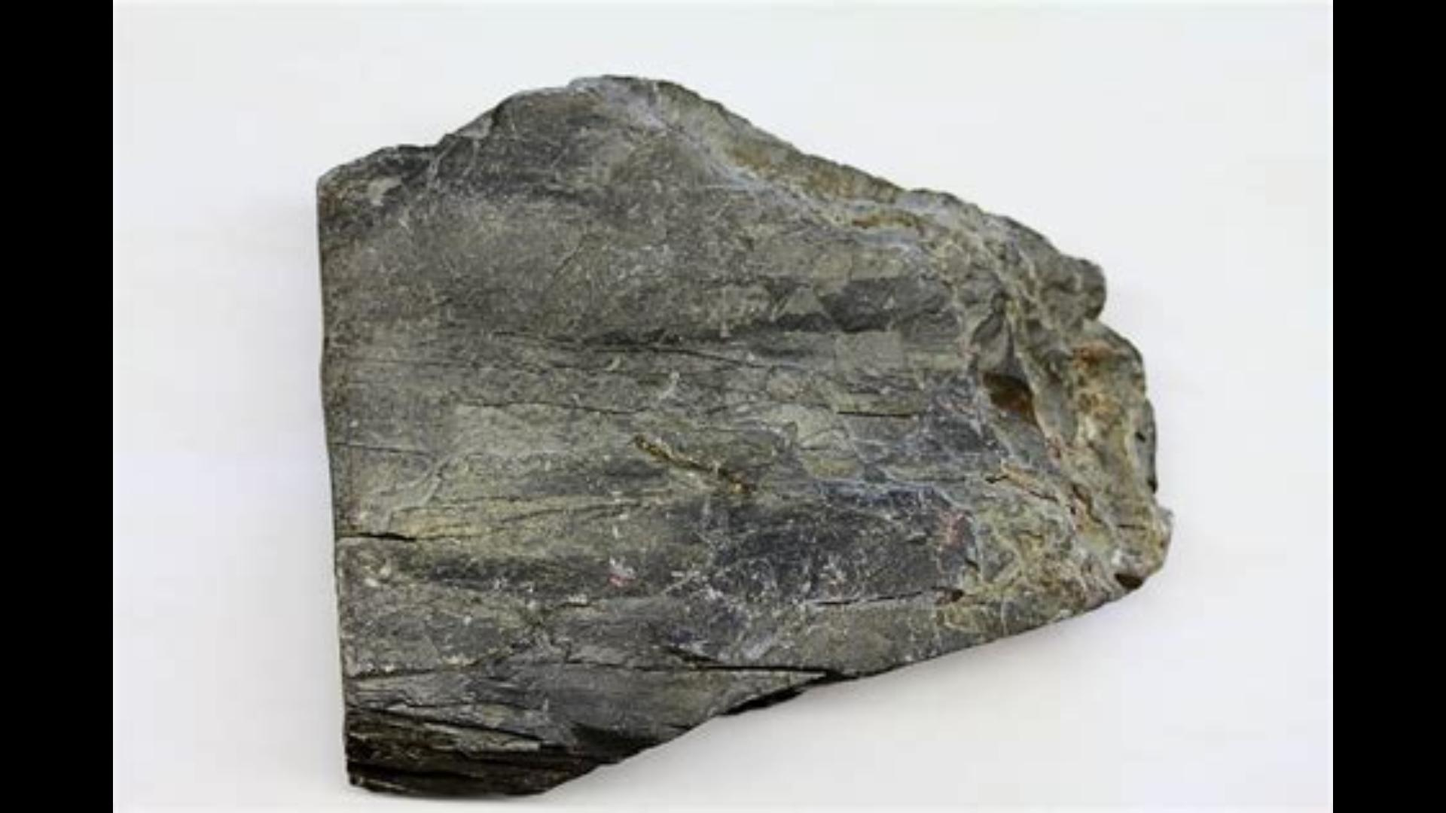rock: (324, 80, 1168, 787)
